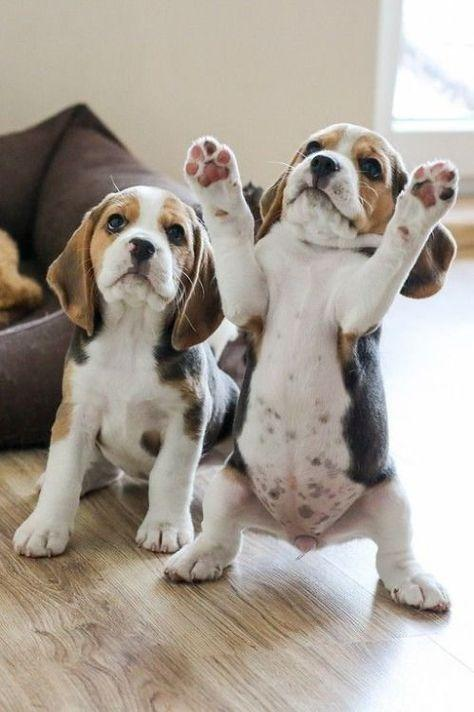puppy-dog: (163, 121, 460, 612), (11, 186, 243, 558)
